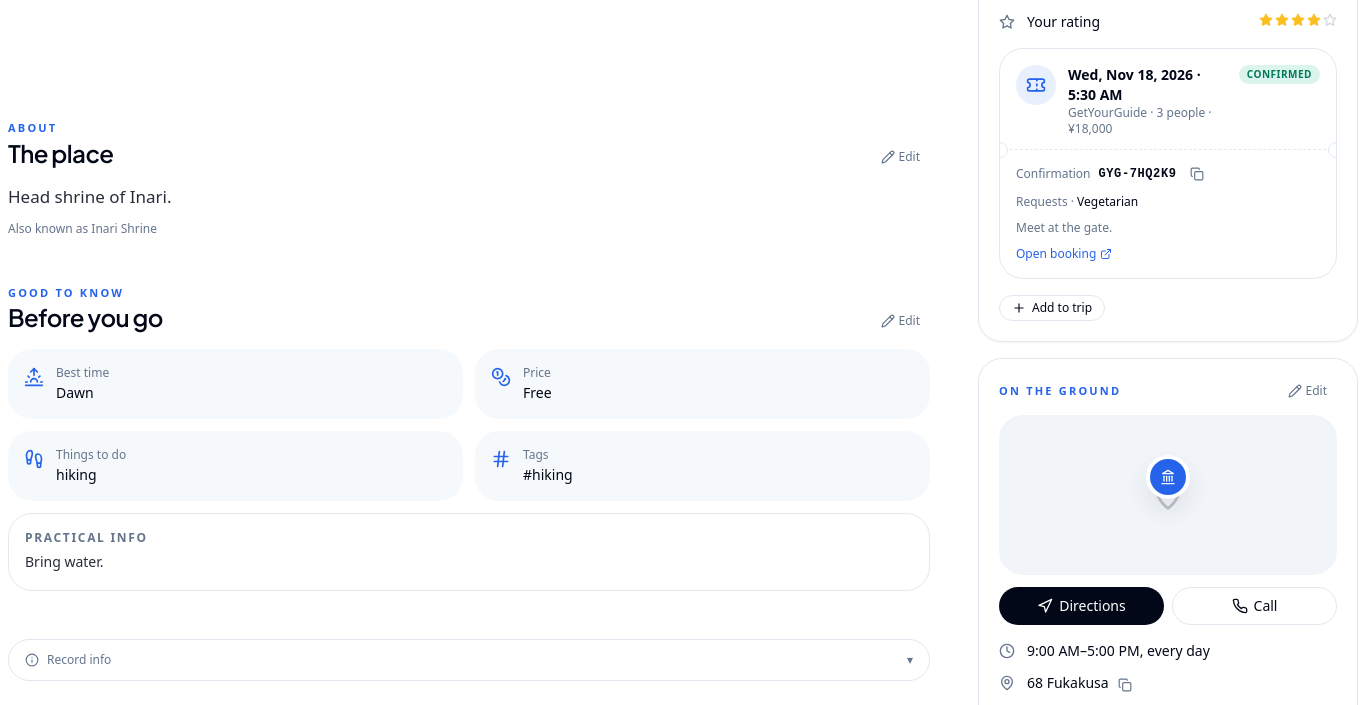
Scenario: section pencils › shows a refreshed value in the pencil editor after the place changes underneath it
(page scrolled)
Click the button with aria-label "Edit Good to know" at (900, 321), box 870,309 -> 930,333
(page scrolled)
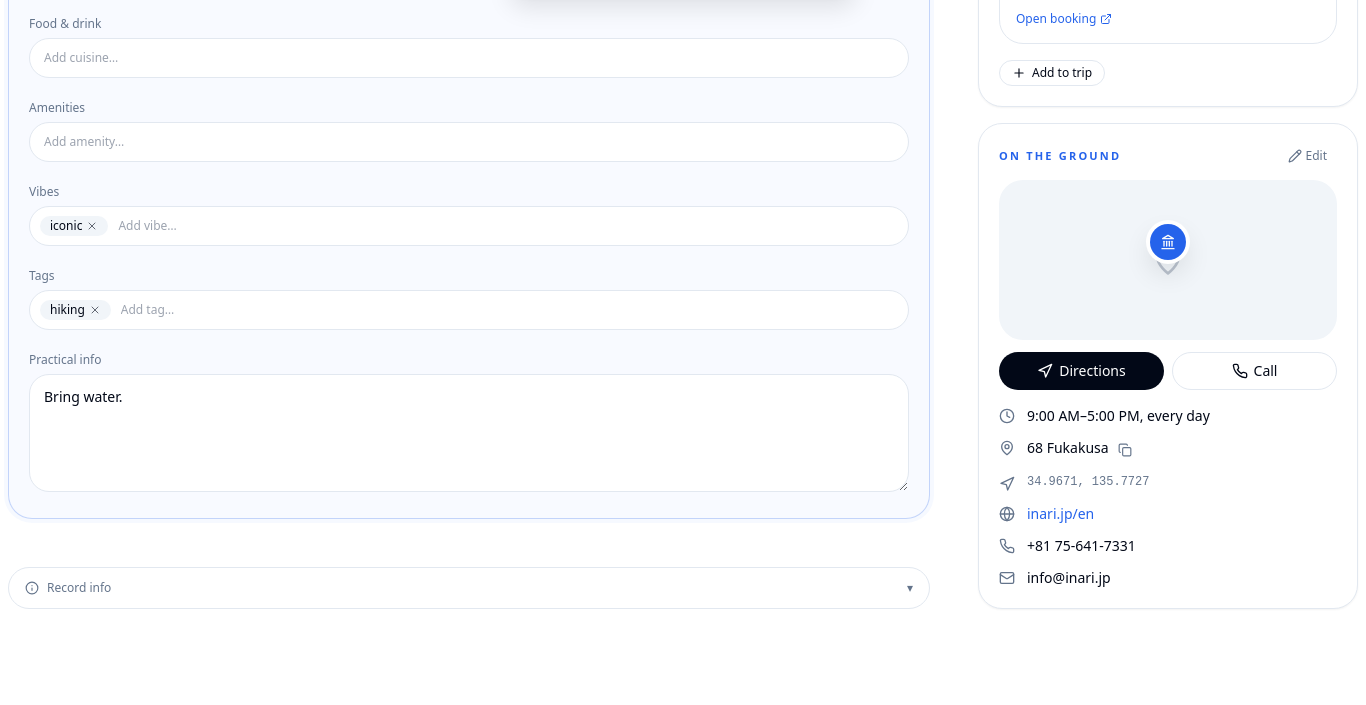
expect the text box showing "Bring water." is shown: met, box 29,374 -> 909,492
